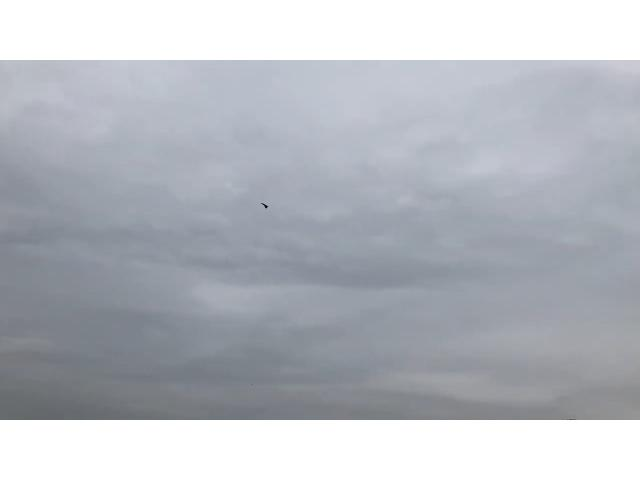Anti-Drone: (262, 203, 268, 209)
